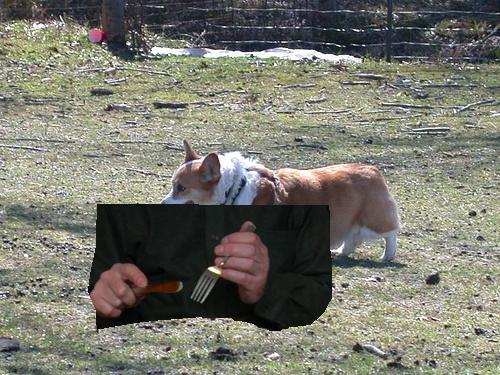tampered: (89, 205, 332, 331)
